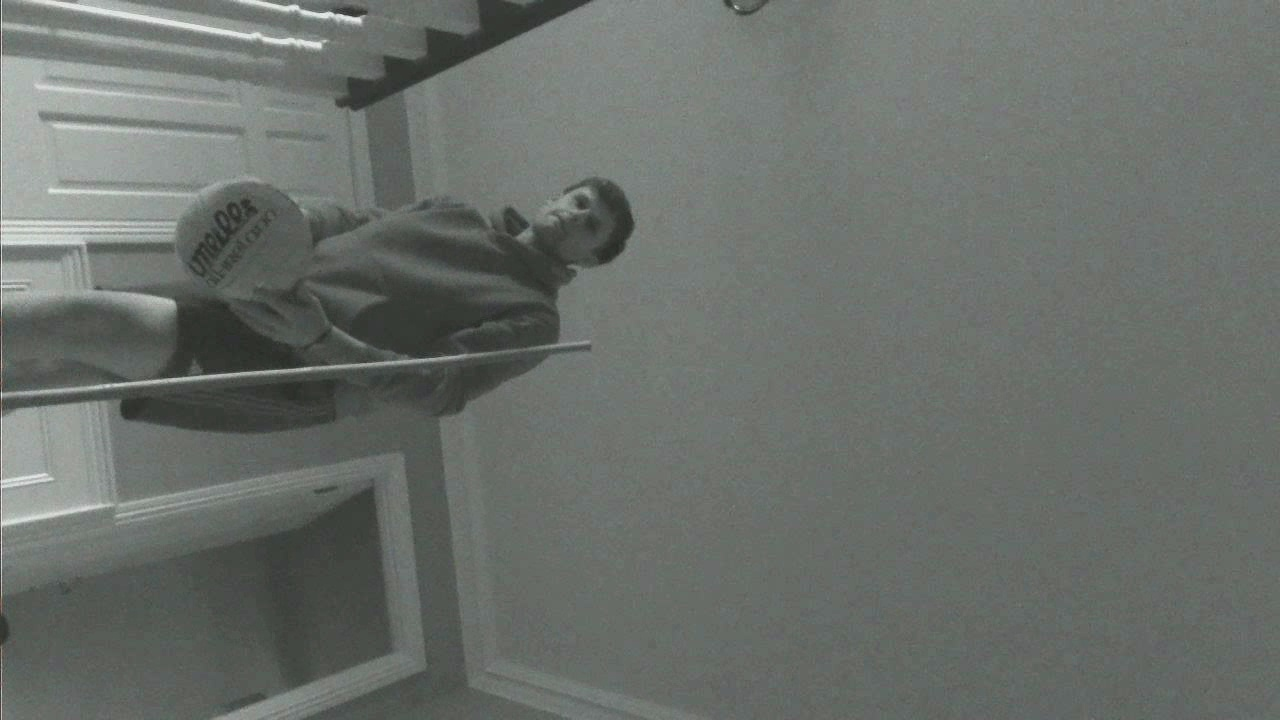Football-Spotter: (176, 178, 309, 298)
